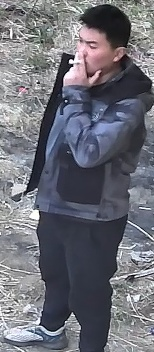smoking: (53, 5, 139, 111)
